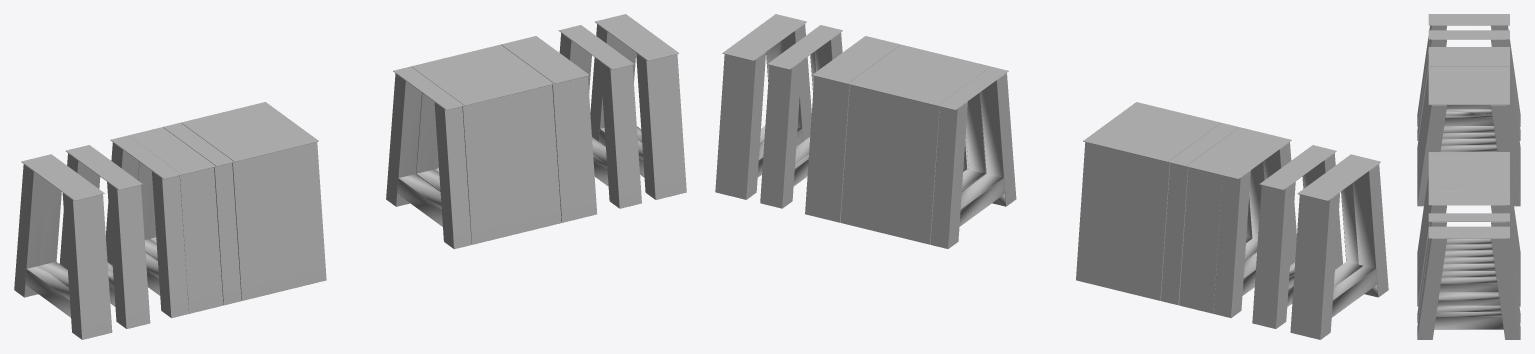
The picture shows the model from 3 angles, left to right: view 1: azimuth 30°, elevation 25°; view 2: azimuth 150°, elevation 25°; view 3: azimuth 270°, elevation 25°; orthographic projection. The views are drawn at different scales.
Parts seen in each view (by area): view 1: Verbaan_A_Shape_Wood_LEG, Organic_A_Shape_Wood_LEG, Rectangle_A_Shape_Wood_LEG_90_100_110_400, Rectangle_A_Shape_Wood_LEG_90_100_110_300, Rectangle_A_Shape_Wood_LEG_90_100_110_350, Rectangle_A_Shape_Wood_LEG_90_100_110_280, Rectangle_A_Shape_Wood_LEG_90_100_110_240, Halve_A_Shape_Wood_LEG, Rectangle_A_Shape_Wood_LEG_90_100_110_260, Rectangle_A_Shape_Wood_LEG_90_100_110_220, Rectangle_A_Shape_Wood_LEG_90_100_110_200, Rectangle_A_Shape_Wood_LEG_90_100_110_180; view 2: Verbaan_A_Shape_Wood_LEG, Organic_A_Shape_Wood_LEG, Rectangle_A_Shape_Wood_LEG_90_100_110_400, Rectangle_A_Shape_Wood_LEG_90_100_110_300, Rectangle_A_Shape_Wood_LEG_90_100_110_280, Rectangle_A_Shape_Wood_LEG_90_100_110_220, Rectangle_A_Shape_Wood_LEG_90_100_110_350, Rectangle_A_Shape_Wood_LEG_90_100_110_240, Rectangle_A_Shape_Wood_LEG_90_100_110_260, Halve_A_Shape_Wood_LEG, Rectangle_A_Shape_Wood_LEG_90_100_110_200, Rectangle_A_Shape_Wood_LEG_90_100_110_180; view 3: Verbaan_A_Shape_Wood_LEG, Rectangle_A_Shape_Wood_LEG_90_100_110_400, Organic_A_Shape_Wood_LEG, Halve_A_Shape_Wood_LEG, Rectangle_A_Shape_Wood_LEG_90_100_110_350, Rectangle_A_Shape_Wood_LEG_90_100_110_300, Rectangle_A_Shape_Wood_LEG_90_100_110_280, Rectangle_A_Shape_Wood_LEG_90_100_110_260, Rectangle_A_Shape_Wood_LEG_90_100_110_220, Rectangle_A_Shape_Wood_LEG_90_100_110_240, Rectangle_A_Shape_Wood_LEG_90_100_110_180, Rectangle_A_Shape_Wood_LEG_90_100_110_200.
Part boxes in pixels (x1=…): Verbaan_A_Shape_Wood_LEG: x1=39, y1=18, x2=673, y2=336; Organic_A_Shape_Wood_LEG: x1=206, y1=53, x2=559, y2=296; Rectangle_A_Shape_Wood_LEG_90_100_110_400: x1=14, y1=14, x2=686, y2=339; Rectangle_A_Shape_Wood_LEG_90_100_110_300: x1=105, y1=36, x2=596, y2=317; Rectangle_A_Shape_Wood_LEG_90_100_110_350: x1=59, y1=25, x2=641, y2=328; Rectangle_A_Shape_Wood_LEG_90_100_110_280: x1=128, y1=40, x2=579, y2=313; Rectangle_A_Shape_Wood_LEG_90_100_110_240: x1=163, y1=49, x2=543, y2=305; Halve_A_Shape_Wood_LEG: x1=14, y1=44, x2=682, y2=339; Rectangle_A_Shape_Wood_LEG_90_100_110_260: x1=146, y1=44, x2=561, y2=309; Rectangle_A_Shape_Wood_LEG_90_100_110_220: x1=181, y1=53, x2=525, y2=300; Rectangle_A_Shape_Wood_LEG_90_100_110_200: x1=199, y1=57, x2=508, y2=295; Rectangle_A_Shape_Wood_LEG_90_100_110_180: x1=217, y1=62, x2=490, y2=291; Verbaan_A_Shape_Wood_LEG: x1=729, y1=18, x2=1367, y2=336; Organic_A_Shape_Wood_LEG: x1=843, y1=53, x2=1194, y2=296; Rectangle_A_Shape_Wood_LEG_90_100_110_400: x1=715, y1=14, x2=1388, y2=339; Rectangle_A_Shape_Wood_LEG_90_100_110_300: x1=805, y1=36, x2=1291, y2=315; Rectangle_A_Shape_Wood_LEG_90_100_110_280: x1=822, y1=40, x2=1273, y2=313; Rectangle_A_Shape_Wood_LEG_90_100_110_220: x1=876, y1=53, x2=1220, y2=300; Rectangle_A_Shape_Wood_LEG_90_100_110_350: x1=760, y1=25, x2=1342, y2=328; Rectangle_A_Shape_Wood_LEG_90_100_110_240: x1=858, y1=49, x2=1238, y2=305; Rectangle_A_Shape_Wood_LEG_90_100_110_260: x1=840, y1=44, x2=1256, y2=309; Halve_A_Shape_Wood_LEG: x1=721, y1=52, x2=1388, y2=337; Rectangle_A_Shape_Wood_LEG_90_100_110_200: x1=893, y1=57, x2=1202, y2=295; Rectangle_A_Shape_Wood_LEG_90_100_110_180: x1=911, y1=62, x2=1185, y2=290; Verbaan_A_Shape_Wood_LEG: x1=1417, y1=18, x2=1520, y2=332; Rectangle_A_Shape_Wood_LEG_90_100_110_400: x1=1417, y1=14, x2=1520, y2=339; Organic_A_Shape_Wood_LEG: x1=1417, y1=79, x2=1520, y2=284; Halve_A_Shape_Wood_LEG: x1=1417, y1=106, x2=1520, y2=339; Rectangle_A_Shape_Wood_LEG_90_100_110_350: x1=1417, y1=30, x2=1520, y2=323; Rectangle_A_Shape_Wood_LEG_90_100_110_300: x1=1417, y1=47, x2=1520, y2=304; Rectangle_A_Shape_Wood_LEG_90_100_110_280: x1=1417, y1=53, x2=1520, y2=297; Rectangle_A_Shape_Wood_LEG_90_100_110_260: x1=1417, y1=60, x2=1520, y2=291; Rectangle_A_Shape_Wood_LEG_90_100_110_220: x1=1417, y1=73, x2=1520, y2=277; Rectangle_A_Shape_Wood_LEG_90_100_110_240: x1=1417, y1=66, x2=1520, y2=284; Rectangle_A_Shape_Wood_LEG_90_100_110_180: x1=1417, y1=86, x2=1518, y2=264; Rectangle_A_Shape_Wood_LEG_90_100_110_200: x1=1417, y1=80, x2=1520, y2=271.
Size of the model in its own units: 3.4 by 0.7207 by 0.6642.
Materials: 4 (4 with a texture image).
